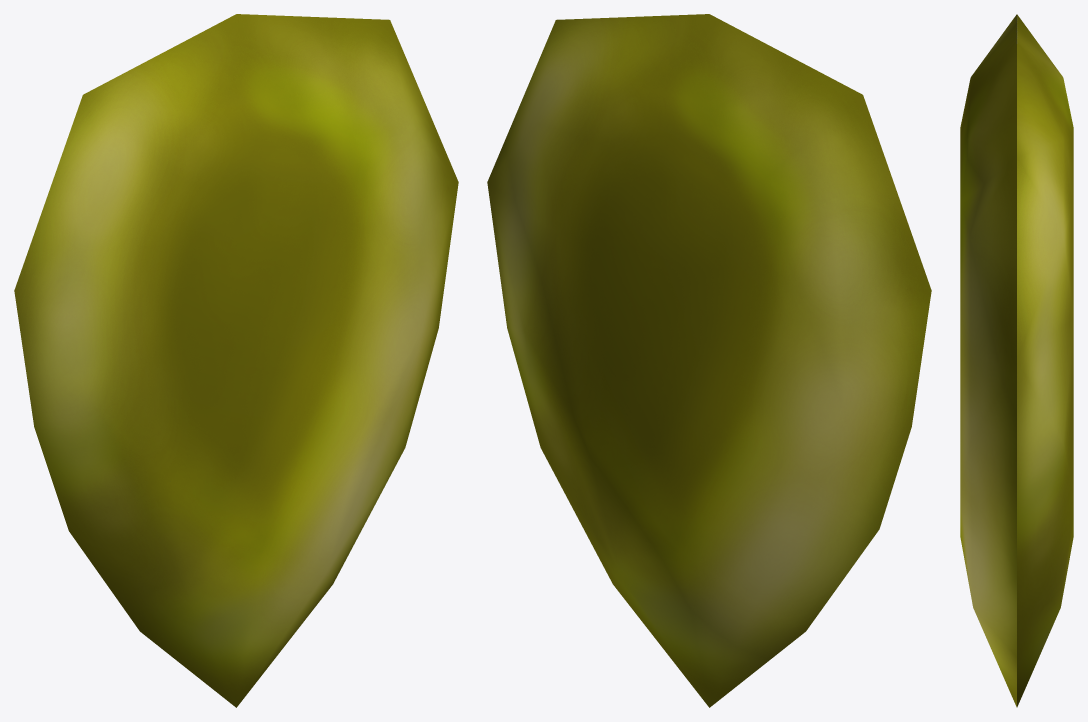
Rendered from Air Crystal.fbx.
The picture shows the model from 3 angles, left to right: view 1: azimuth 30°, elevation 25°; view 2: azimuth 150°, elevation 25°; view 3: azimuth 270°, elevation 25°; orthographic projection. The views are drawn at different scales.
Visible parts, largest first — view 1: Oil_Tank; view 2: Oil_Tank; view 3: Oil_Tank.
Part boxes in pixels (box(x1,y1,x2,y2)): Oil_Tank: box(14, 14, 458, 707); Oil_Tank: box(487, 14, 931, 707); Oil_Tank: box(960, 14, 1073, 707).
Size of the model in its own units: 160 by 239 by 36.98.
